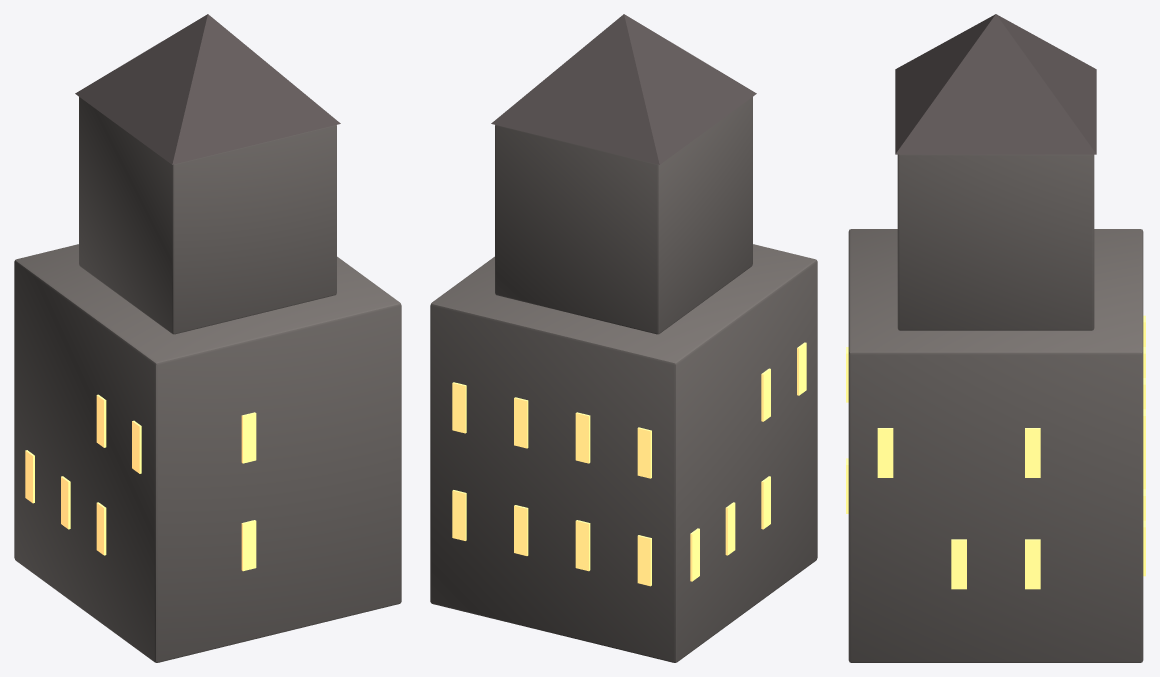
Rendered from SM_Area2_City_C.glb.
The picture shows the model from 3 angles, left to right: view 1: azimuth 30°, elevation 25°; view 2: azimuth 150°, elevation 25°; view 3: azimuth 270°, elevation 25°; orthographic projection. The views are drawn at different scales.
Parts seen in each view (by area): view 1: SM_Area2_City_C; view 2: SM_Area2_City_C; view 3: SM_Area2_City_C.
Part boxes in pixels (x1=…): SM_Area2_City_C: x1=14, y1=14, x2=401, y2=662; SM_Area2_City_C: x1=430, y1=14, x2=817, y2=662; SM_Area2_City_C: x1=846, y1=14, x2=1145, y2=662.
Bounding box in the file's own units: 6.1 × 13.2 × 6.1.
